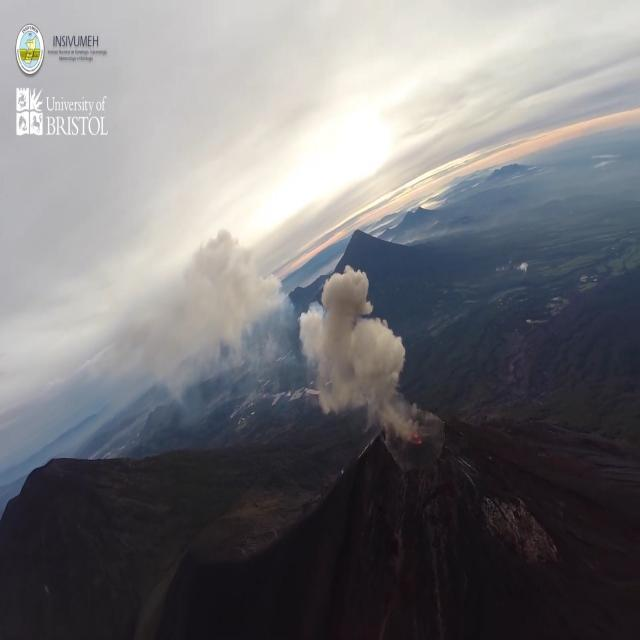Plume: (132, 225, 283, 382), (288, 256, 408, 421)
Summit: (354, 407, 479, 497)
